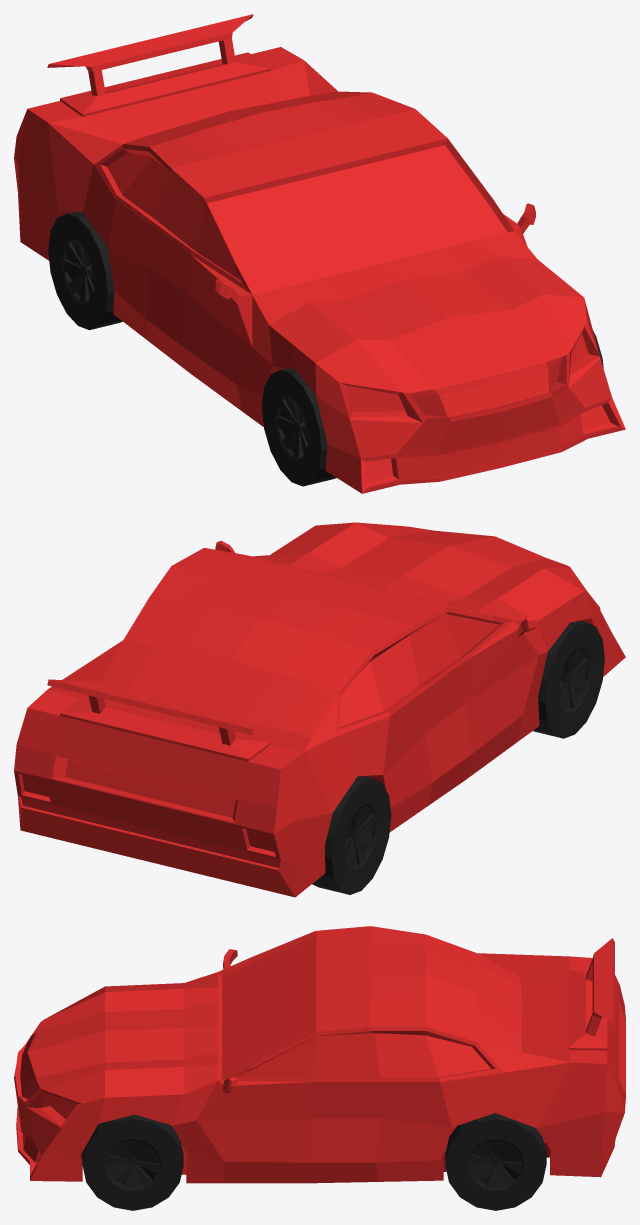
File: Car_fbx.fbx
3 renders of one model, top to bottom at view 1: azimuth 30°, elevation 25°; view 2: azimuth 150°, elevation 25°; view 3: azimuth 270°, elevation 25°, orthographic. The views are drawn at different scales.
Parts seen in each view (by area): view 1: Body, BR, FR; view 2: Body, BR, FR; view 3: Body, BL, FL.
Boxes of the visible parts, <box> form: Body: <box>14,14,625,493</box>; BR: <box>48,212,122,329</box>; FR: <box>262,368,336,486</box>; Body: <box>14,522,625,897</box>; BR: <box>312,776,391,894</box>; FR: <box>533,620,604,738</box>; Body: <box>14,926,625,1183</box>; BL: <box>445,1113,546,1210</box>; FL: <box>82,1114,183,1210</box>.
Size of the model in its own units: 243 by 151 by 474.
